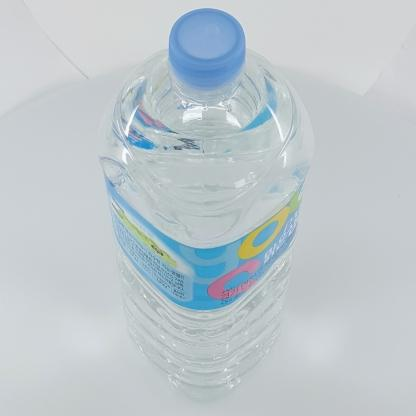--------1-5L: (96, 8, 315, 403)
